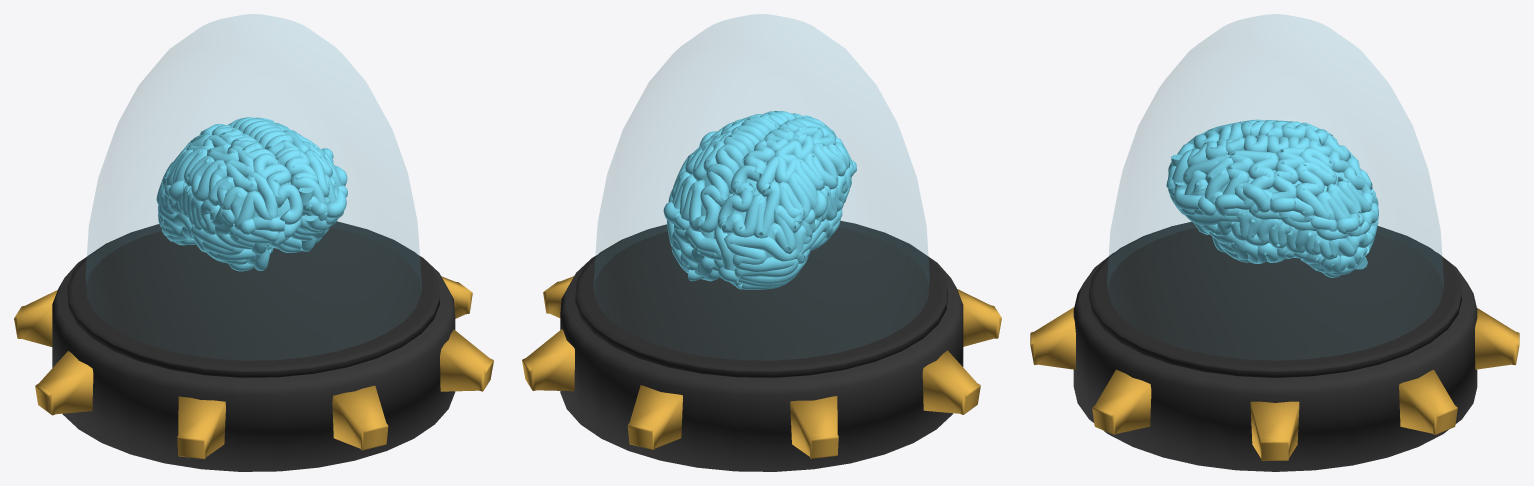
3 views of the same model, side by side, from view 1: azimuth 30°, elevation 25°; view 2: azimuth 150°, elevation 25°; view 3: azimuth 270°, elevation 25° (orthographic).
Parts seen in each view (by area): view 1: Cylinder.001, Sphere, Cylinder, Cube.001, Cube.004, Cube.002, Cube.006, Cube.008, Cube.007, Cube; view 2: Cylinder.001, Sphere, Cylinder, Cube.001, Cube.003, Cube.002, Cube.007, Cube.005, Cube.006, Cube; view 3: Cylinder.001, Sphere, Cylinder, Cube.001, Cube.008, Cube.005, Cube, Cube.004, Cube.003.
Boxes of the visible parts, box(x1,y1,x2,y2) form: Cylinder.001: box(67, 221, 439, 377); Sphere: box(86, 14, 421, 289); Cylinder: box(52, 255, 455, 471); Cube.001: box(156, 117, 347, 271); Cube.004: box(332, 385, 388, 450); Cube.002: box(35, 351, 93, 415); Cube.006: box(177, 396, 225, 459); Cube.008: box(440, 329, 493, 391); Cube.007: box(14, 290, 57, 346); Cube: box(441, 276, 472, 318); Cylinder.001: box(575, 221, 947, 377); Sphere: box(594, 14, 929, 293); Cylinder: box(560, 255, 963, 471); Cube.001: box(663, 111, 856, 289); Cube.003: box(627, 385, 682, 449); Cube.002: box(922, 350, 980, 414); Cube.007: box(790, 396, 838, 458); Cube.005: box(522, 329, 574, 391); Cube.006: box(957, 289, 1001, 346); Cube: box(543, 276, 573, 317); Cylinder.001: box(1089, 221, 1461, 377); Sphere: box(1107, 14, 1443, 287); Cylinder: box(1073, 252, 1477, 471); Cube.001: box(1166, 119, 1378, 277); Cube.008: box(1092, 369, 1151, 434); Cube.005: box(1399, 369, 1457, 434); Cube: box(1250, 401, 1299, 460); Cube.004: box(1030, 307, 1075, 369); Cube.003: box(1475, 308, 1519, 369).
Bounding box in the file's own units: 1.07 × 0.8806 × 1.07.
